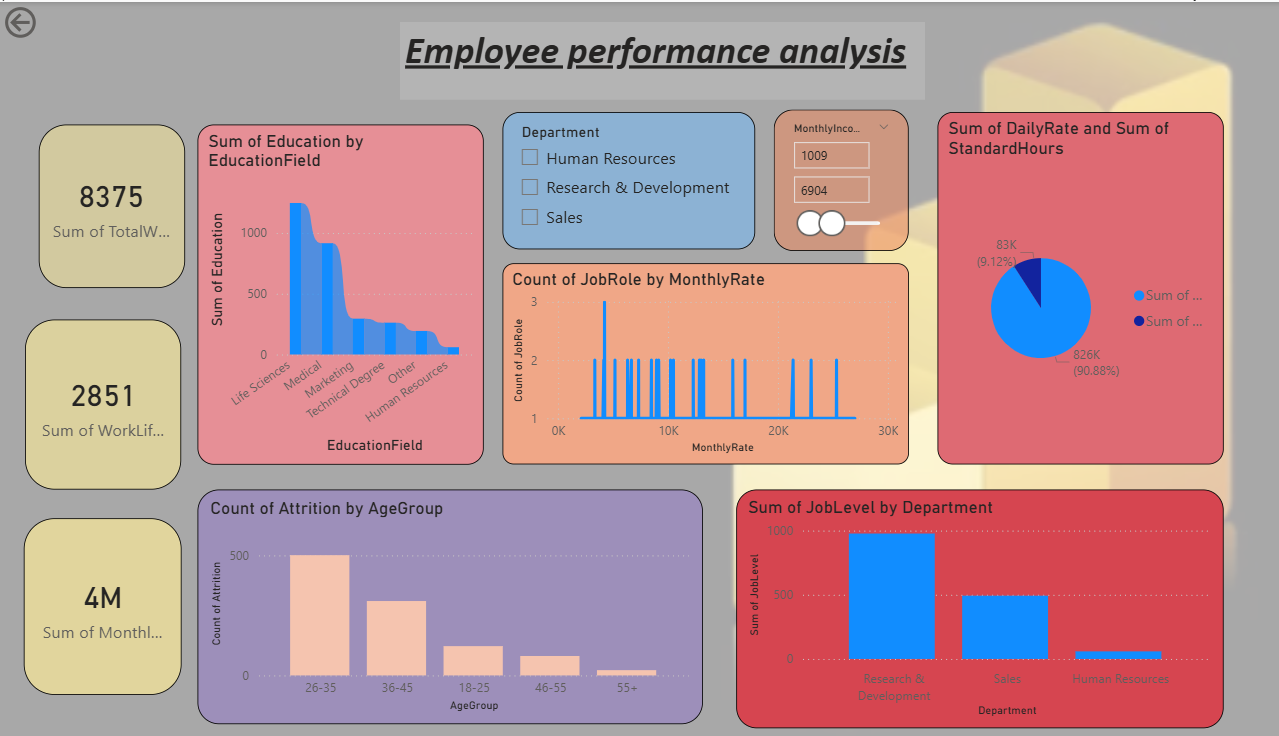

The dashboard page shown, as its layout file describes it:
{"tool":"powerbi","page":{"name":"Page 1","canvas":[1280,720],"ordinal":0},"visuals":[{"type":"clusteredColumnChart","fields":{"Category":["HR_Analytics.Department"],"Y":["Sum(HR_Analytics.JobLevel)"]},"box":[720.2,476.9,476.9,233.6],"z":0},{"type":"pieChart","fields":{"Y":["Sum(HR_Analytics.DailyRate)","Sum(HR_Analytics.StandardHours)"]},"box":[917.1,107.6,280,344.8],"z":1000},{"type":"ribbonChart","fields":{"Y":["Sum(HR_Analytics.Education)"],"Category":["HR_Analytics.EducationField"]},"box":[193.2,119.8,280,332.6],"z":2000},{"type":"lineClusteredColumnComboChart","fields":{"Category":["HR_Analytics.AgeGroup"],"Y":["CountNonNull(HR_Analytics.Attrition)"]},"box":[193.2,476.9,494,229.9],"z":3000},{"type":"slicer","fields":{"Values":["HR_Analytics.Department"]},"box":[491.6,107.6,247,134.5],"z":4000},{"type":"actionButton","box":[0,0,100,40],"z":5000},{"type":"slicer","fields":{"Values":["HR_Analytics.MonthlyIncome"]},"box":[756.9,105.2,132.1,138.2],"z":6000},{"type":"lineChart","fields":{"Category":["HR_Analytics.MonthlyRate"],"Y":["CountNonNull(HR_Analytics.JobRole)"]},"box":[491.6,255.6,397.4,196.9],"z":8000},{"type":"textbox","box":[391.3,19.6,513.6,75.8],"z":9000},{"type":"card","fields":{"Values":["Sum(HR_Analytics.MonthlyIncome)"]},"box":[23.2,505,154.1,172.4],"z":9001},{"type":"card","fields":{"Values":["Sum(HR_Analytics.WorkLifeBalance)"]},"box":[24.5,310.6,152.9,166.3],"z":9002},{"type":"card","fields":{"Values":["Sum(HR_Analytics.TotalWorkingYears)"]},"box":[37.9,119.8,143.1,160.2],"z":9003}]}

Visuals, with their boxes in screenshot pixels (x1, y1, x2, y2), scaled from the page's 1280x720 canvas onto the 1279x736 screenshot:
clusteredColumnChart - HR_Analytics.Department x Sum(HR_Analytics.JobLevel): x1=720 y1=487 x2=1196 y2=726
pieChart - Sum(HR_Analytics.DailyRate) x Sum(HR_Analytics.StandardHours): x1=916 y1=110 x2=1196 y2=462
ribbonChart - Sum(HR_Analytics.Education) x HR_Analytics.EducationField: x1=193 y1=122 x2=473 y2=462
lineClusteredColumnComboChart - HR_Analytics.AgeGroup x CountNonNull(HR_Analytics.Attrition): x1=193 y1=487 x2=687 y2=723
slicer - HR_Analytics.Department: x1=491 y1=110 x2=738 y2=247
actionButton: x1=0 y1=0 x2=100 y2=41
slicer - HR_Analytics.MonthlyIncome: x1=756 y1=108 x2=888 y2=249
lineChart - HR_Analytics.MonthlyRate x CountNonNull(HR_Analytics.JobRole): x1=491 y1=261 x2=888 y2=463
textbox: x1=391 y1=20 x2=904 y2=98
card - Sum(HR_Analytics.MonthlyIncome): x1=23 y1=516 x2=177 y2=692
card - Sum(HR_Analytics.WorkLifeBalance): x1=24 y1=318 x2=177 y2=487
card - Sum(HR_Analytics.TotalWorkingYears): x1=38 y1=122 x2=181 y2=286
